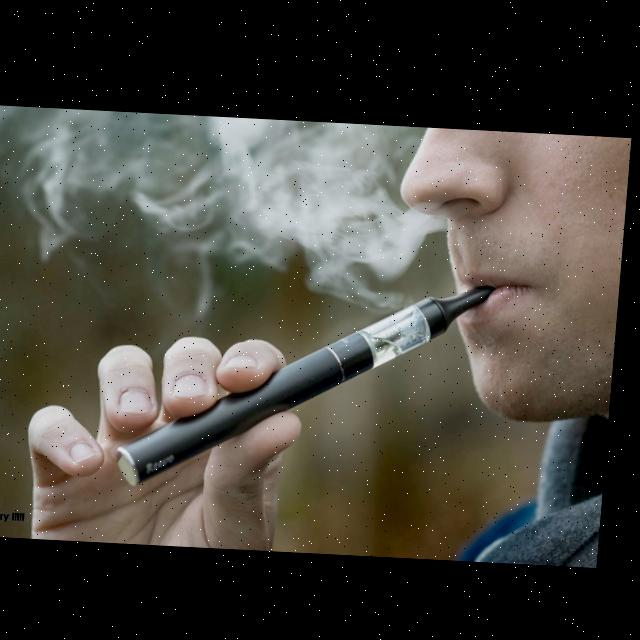vape: (120, 262, 509, 500)
